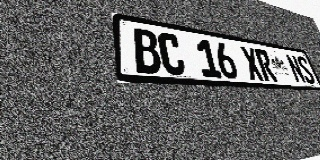1: (194, 38, 222, 78)
6: (212, 41, 239, 79)
B: (131, 27, 163, 74)
C: (157, 32, 187, 76)
N: (284, 53, 307, 83)
R: (253, 48, 278, 82)
S: (295, 55, 317, 84)
X: (239, 46, 265, 81)
